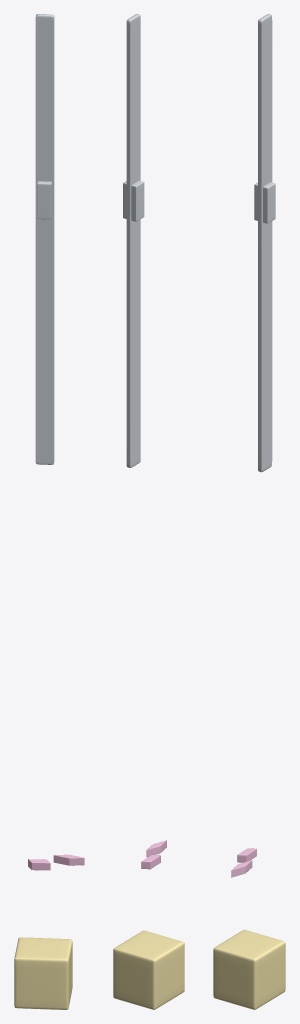
File: PROP_Scooter_v2.glb
3 views of the same model, side by side, from view 1: azimuth 90°, elevation 25°; view 2: azimuth 150°, elevation 25°; view 3: azimuth 330°, elevation 25° (orthographic).
Parts seen in each view (by area): view 1: PROP_Scooter_v2; view 2: PROP_Scooter_v2; view 3: PROP_Scooter_v2.
Boxes of the visible parts, x1=… form: PROP_Scooter_v2: x1=14, y1=14, x2=84, y2=1009; PROP_Scooter_v2: x1=113, y1=14, x2=184, y2=1009; PROP_Scooter_v2: x1=213, y1=14, x2=285, y2=1009.
Size of the model in its own units: 1.04 by 20.18 by 1.32.
